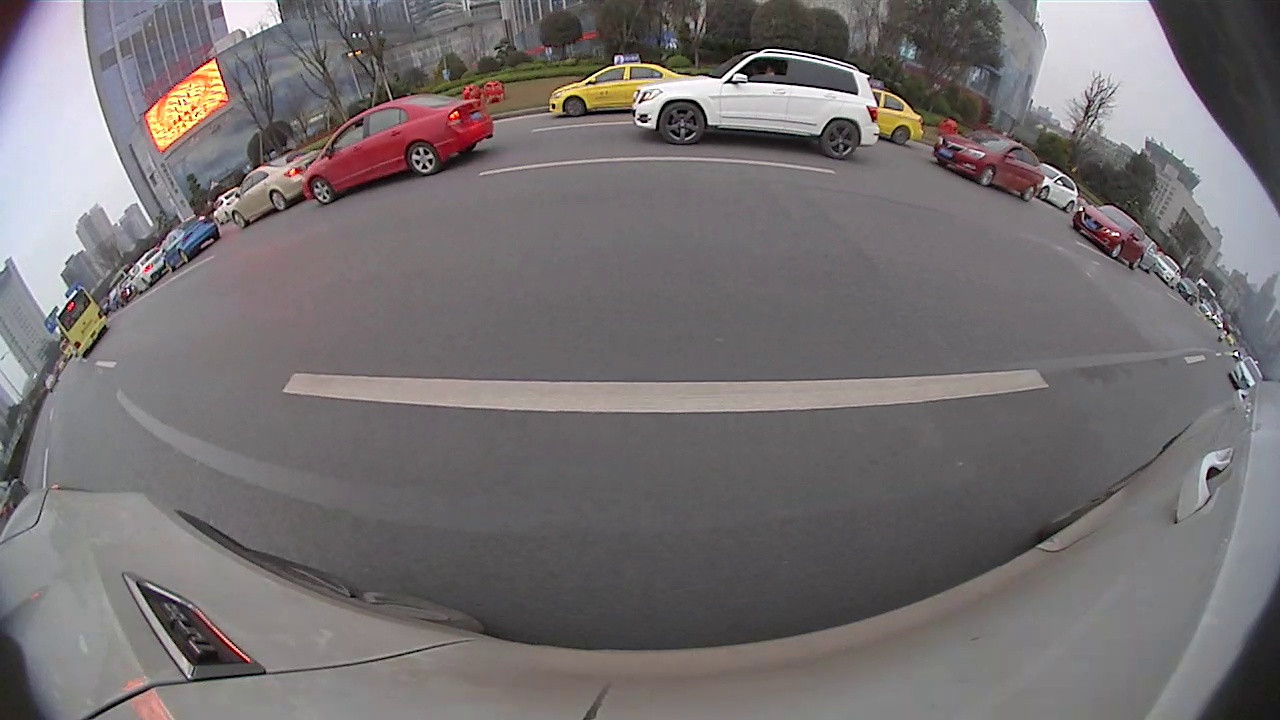bus: (53, 285, 109, 360)
car: (630, 44, 884, 161), (299, 92, 492, 208), (543, 53, 695, 123), (933, 128, 1044, 202), (228, 149, 322, 232), (858, 75, 923, 149), (1071, 211, 1143, 271), (159, 214, 223, 273), (1032, 164, 1080, 216)
front: (658, 100, 708, 145), (309, 176, 338, 206), (563, 95, 586, 118), (975, 165, 997, 186), (231, 210, 251, 229), (1107, 242, 1124, 258), (1035, 186, 1051, 200)
rear: (820, 118, 861, 161), (405, 140, 443, 175), (889, 125, 911, 147), (269, 190, 291, 211), (1020, 185, 1035, 203), (1128, 256, 1144, 271), (1063, 200, 1075, 216)
